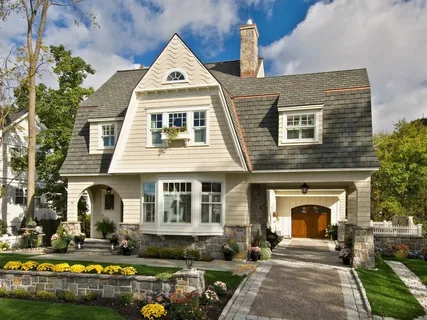private_hause: (73, 62, 371, 241)
